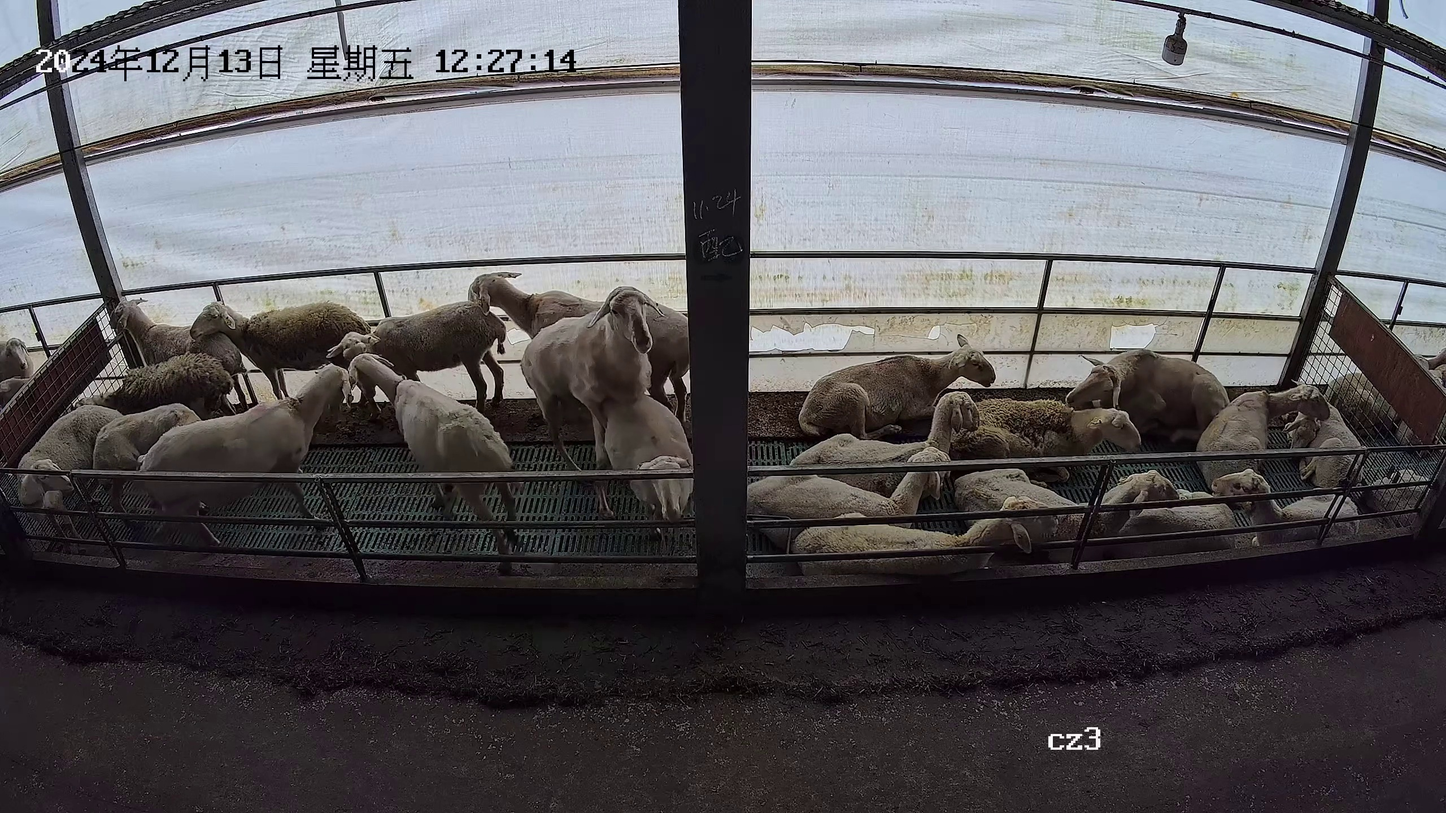Smounting: (519, 285, 698, 541)
mounted: (592, 394, 695, 538)
